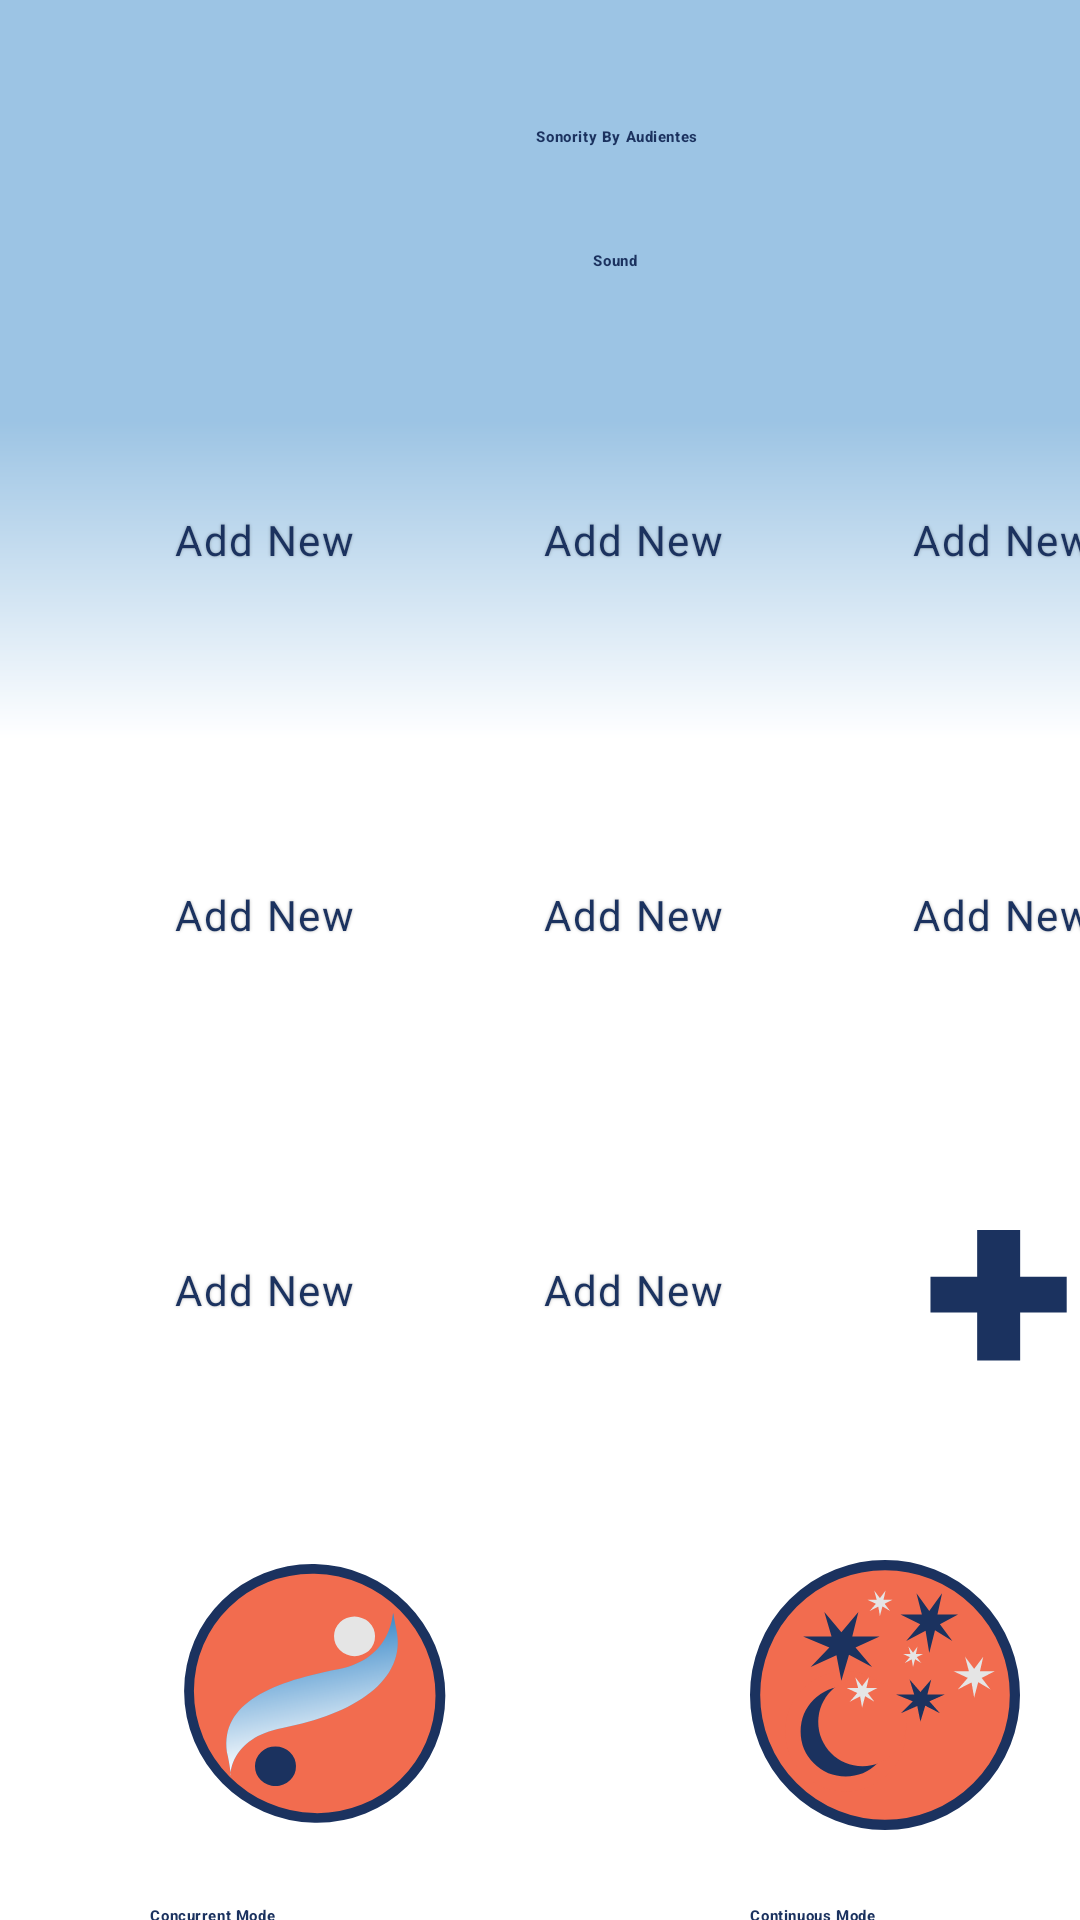

Point at icon controls on the screen. Image size 1080px×1920px, points as [x,y].
plus: [998,1295]
